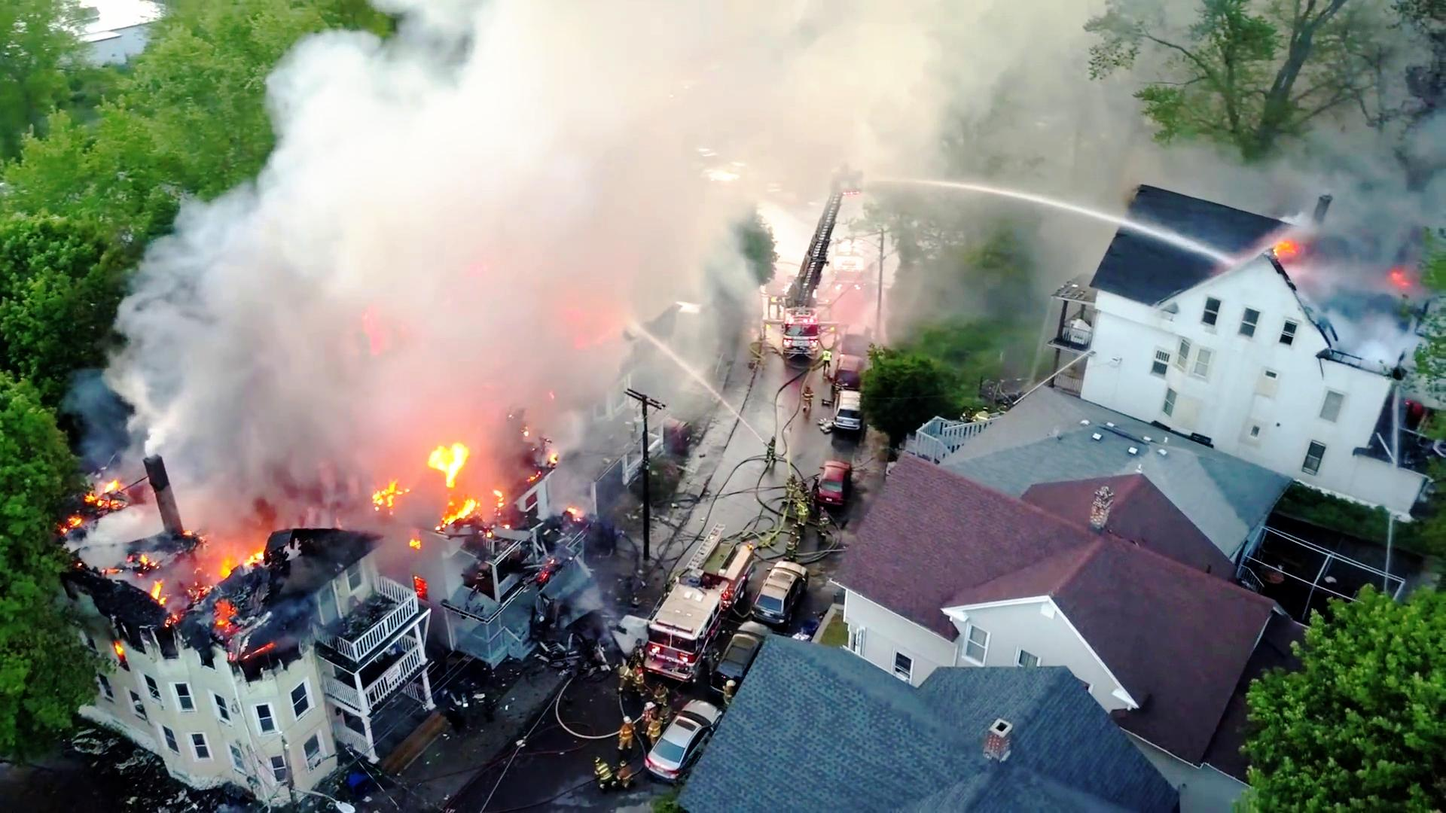fire: (420, 439, 454, 500)
smoke: (295, 68, 611, 401)
